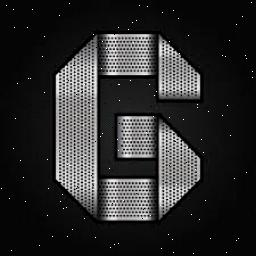g: (46, 4, 208, 240)
